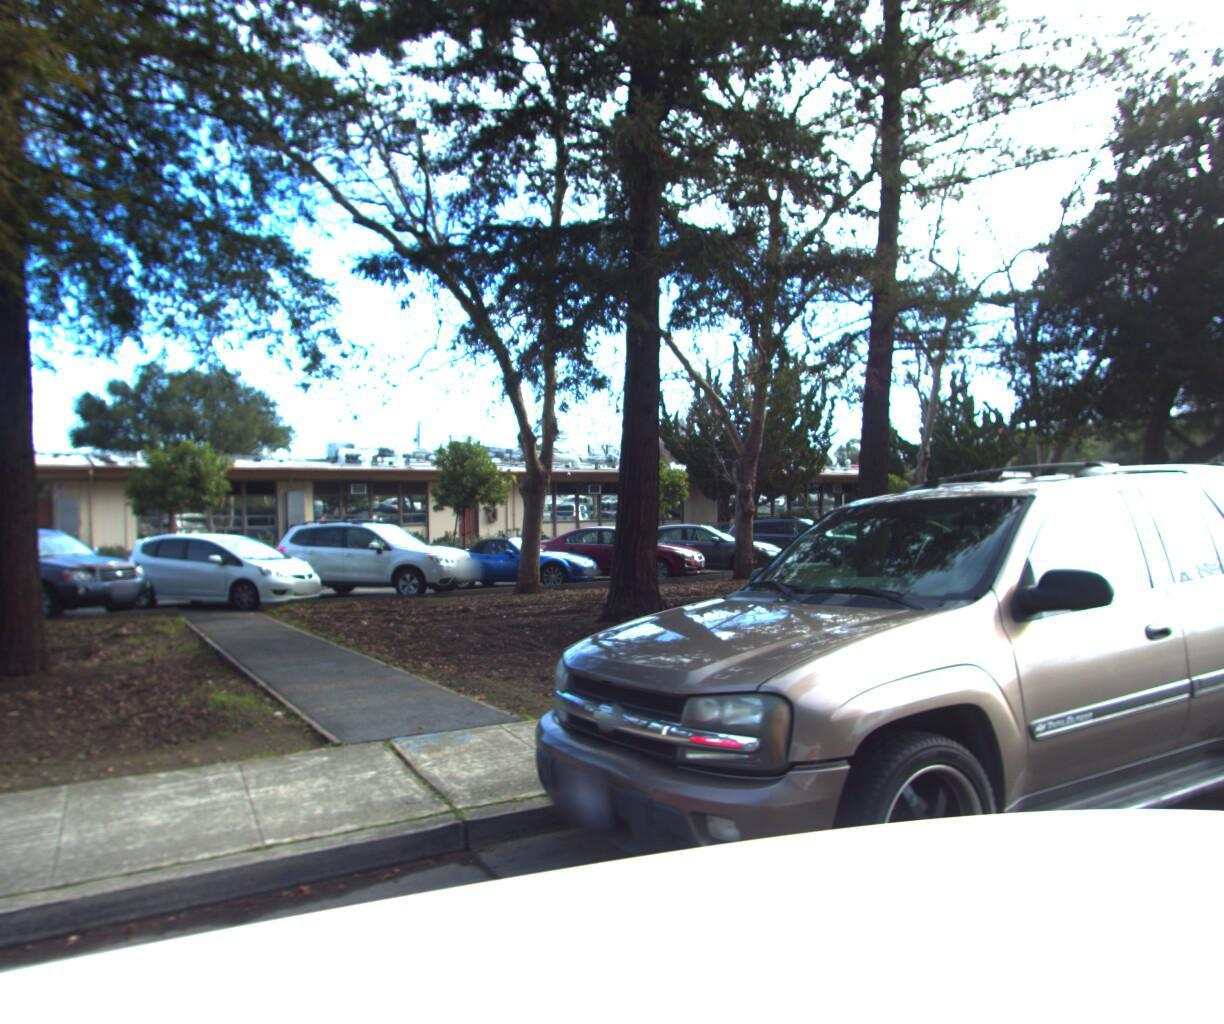car: (485, 400, 1224, 1024)
